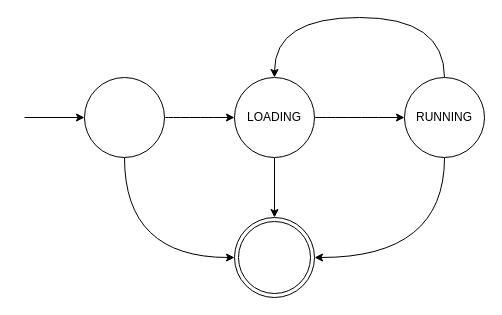
This 502x315 diagram has some shape labels left out. The centre of each missing label's shape, as x and y in pixels:
ERROR: point 274,257
INIT: point 124,117
